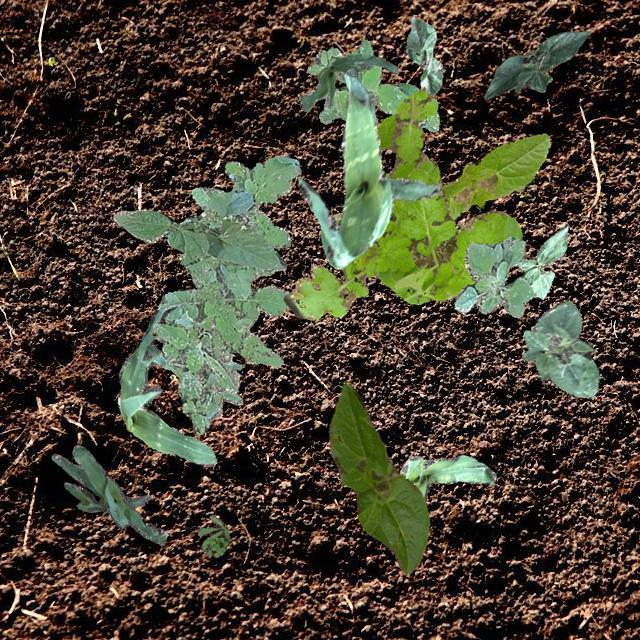crop: (298, 72, 440, 268), (328, 382, 428, 574), (117, 298, 216, 464), (112, 190, 286, 270), (51, 444, 167, 544), (440, 132, 550, 218), (482, 30, 590, 99), (522, 300, 598, 398), (298, 54, 396, 110), (398, 454, 496, 500), (516, 224, 568, 298), (404, 15, 442, 94)
weed: (283, 86, 522, 320), (156, 156, 300, 388), (306, 38, 438, 130), (152, 316, 238, 434), (452, 236, 532, 316), (172, 347, 242, 421), (197, 514, 230, 556)
